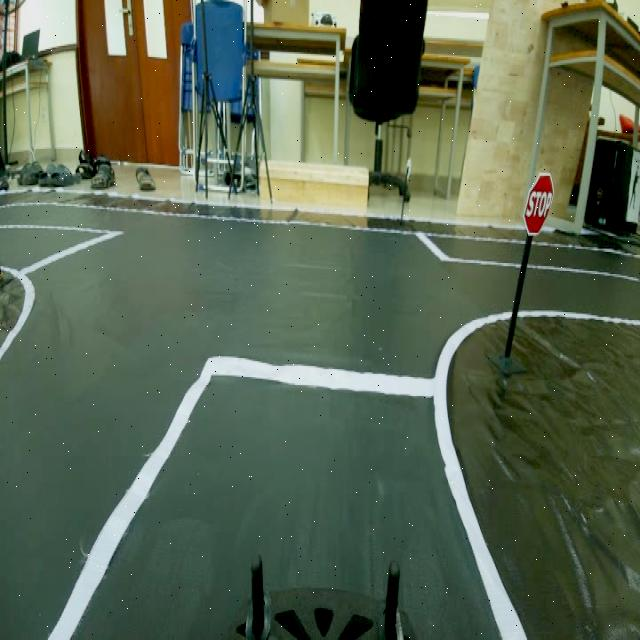stop: (519, 169, 556, 241)
